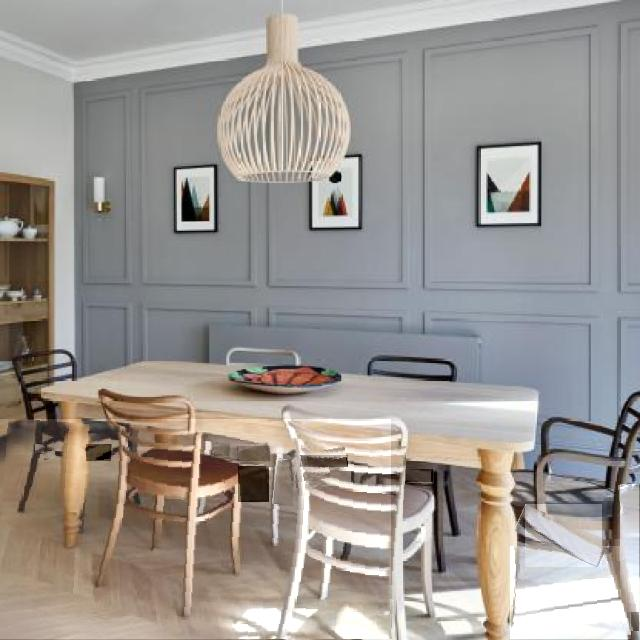floor: (0, 420, 391, 640), (510, 546, 631, 640), (526, 504, 602, 567), (620, 484, 639, 610), (238, 467, 269, 502), (274, 460, 293, 506), (301, 455, 348, 467), (237, 446, 270, 461), (86, 445, 111, 461), (406, 469, 433, 482), (214, 443, 230, 456), (304, 473, 329, 481), (44, 452, 56, 458), (36, 445, 44, 453)
